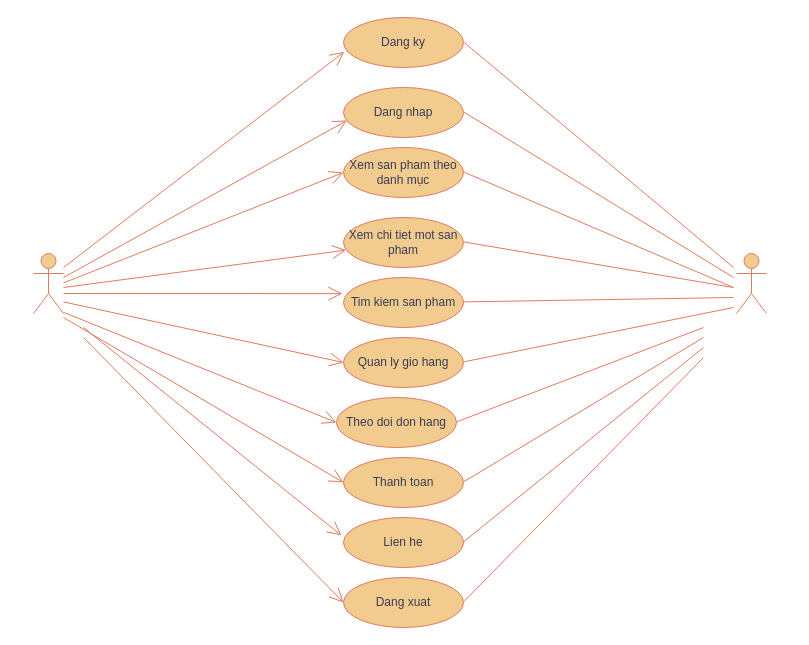
The diagram is 809 pixels wide and 645 high, and some of its shapes have lost their labels. Here are the shapes that lost their labels. From the top down, the centre of each, then its label:
At point 48,283: "KhachHang".
At point 751,283: "HeThongCSDL".
